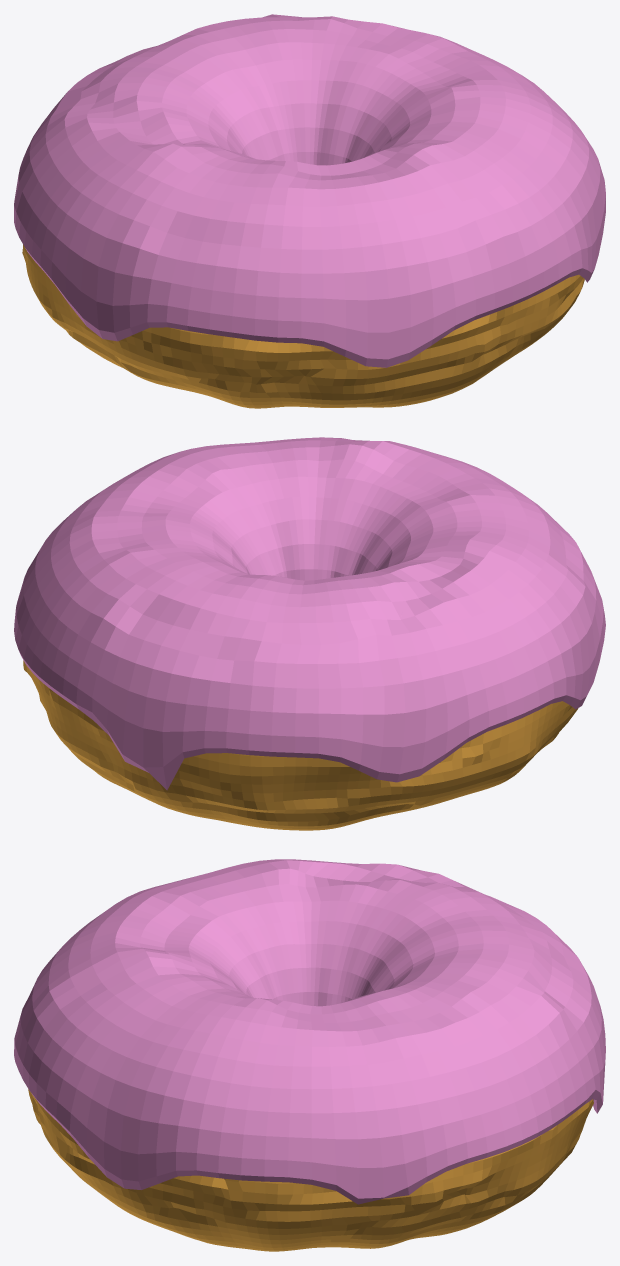
File: Dount.glb
3 renders of one model, top to bottom at view 1: azimuth 30°, elevation 25°; view 2: azimuth 150°, elevation 25°; view 3: azimuth 270°, elevation 25°, orthographic.
Parts seen in each view (by area): view 1: Icing, Dount; view 2: Icing, Dount; view 3: Icing, Dount.
Part boxes in pixels (x1,y1,x2,y2): Icing: (14,14,605,367); Dount: (22,244,584,408); Icing: (14,437,605,790); Dount: (23,660,578,830); Icing: (14,859,605,1204); Dount: (28,1089,593,1251).
Size of what is drawn, in the model's own units: 0.1045 by 0.0454 by 0.1035.
